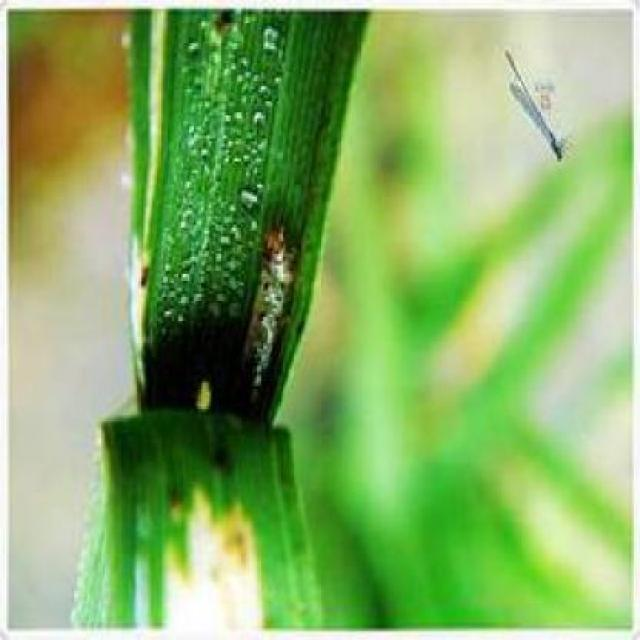leaf-folder: (208, 219, 320, 406)
